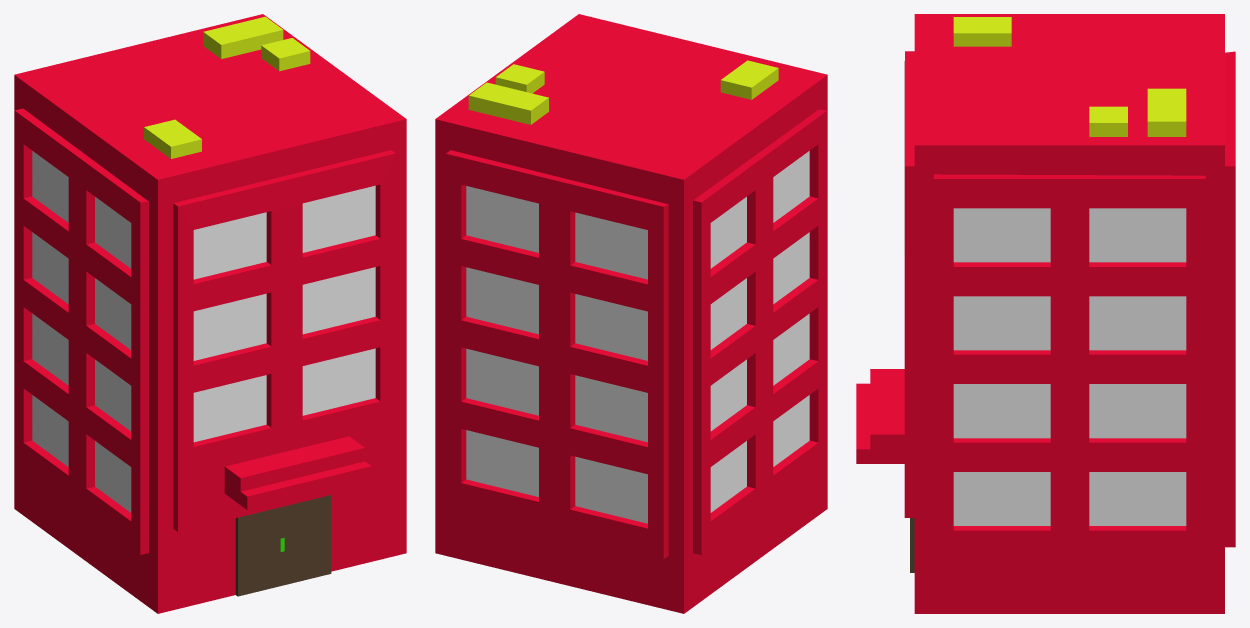
File: TowerBlock.fbx
The picture shows the model from 3 angles, left to right: view 1: azimuth 30°, elevation 25°; view 2: azimuth 150°, elevation 25°; view 3: azimuth 270°, elevation 25°; orthographic projection. The views are drawn at different scales.
Visible parts, largest first — view 1: TowerBlock_LOD0; view 2: TowerBlock_LOD0; view 3: TowerBlock_LOD0.
Part boxes in pixels (box(x1,y1,x2,y2)): TowerBlock_LOD0: box(14, 14, 406, 613); TowerBlock_LOD0: box(435, 14, 827, 613); TowerBlock_LOD0: box(856, 14, 1235, 613).
Size of what is drawn, in the model's own units: 1283 by 2066 by 1468.
